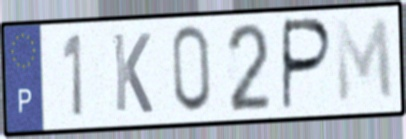0: (169, 23, 214, 118)
1: (60, 31, 86, 121)
2: (224, 20, 273, 115)
K: (110, 31, 155, 116)
M: (332, 15, 396, 107)
P: (279, 16, 335, 114)
